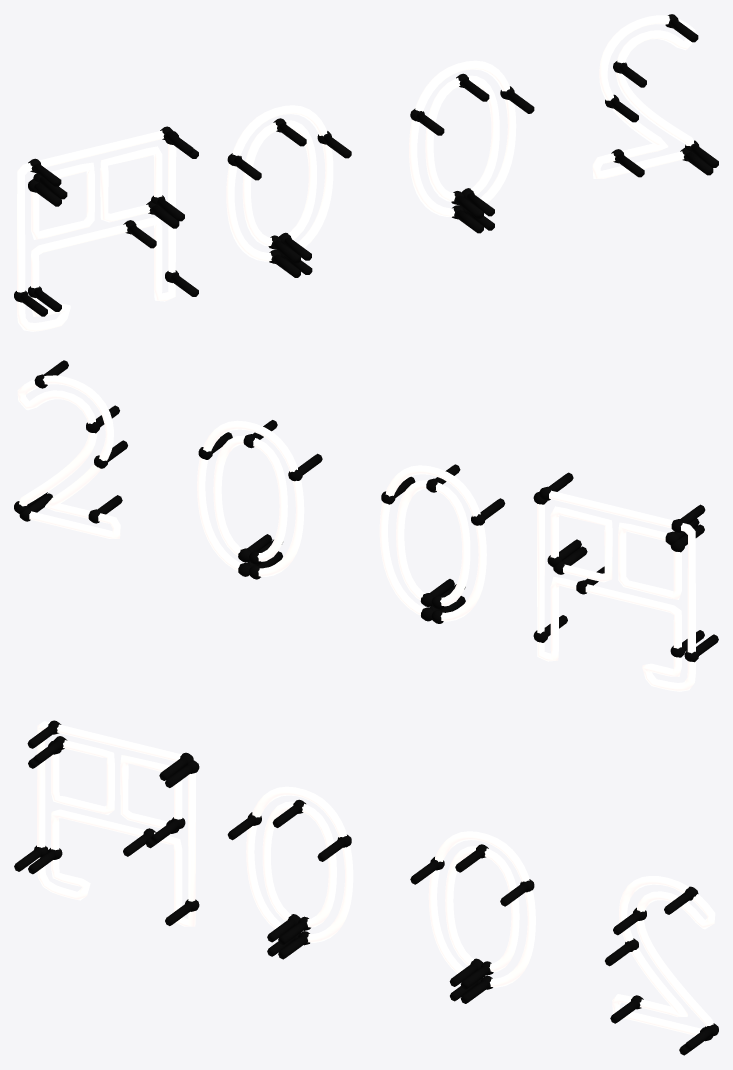
Rendered from neon_200en.fbx.
3 views of the same model, one above another, from view 1: azimuth 30°, elevation 25°; view 2: azimuth 150°, elevation 25°; view 3: azimuth 330°, elevation 25° (orthographic).
Parts seen in each view (by area): view 1: NeonEnglish; view 2: NeonEnglish; view 3: NeonEnglish.
Part boxes in pixels (x1,y1,x2,y2): NeonEnglish: (14,14,718,331); NeonEnglish: (14,360,718,691); NeonEnglish: (14,720,718,1055).
Bounding box in the file's own units: 320 × 77.67 × 21.29.
